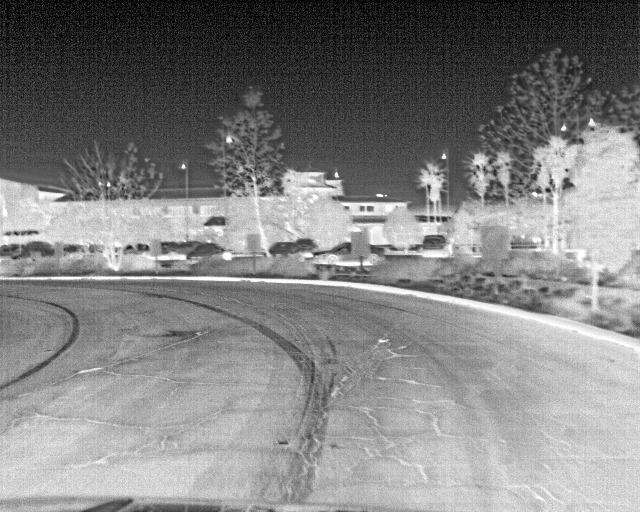car: (316, 242, 361, 262), (186, 241, 229, 259), (420, 233, 450, 257), (269, 241, 300, 257), (294, 239, 315, 258), (365, 243, 382, 262)
